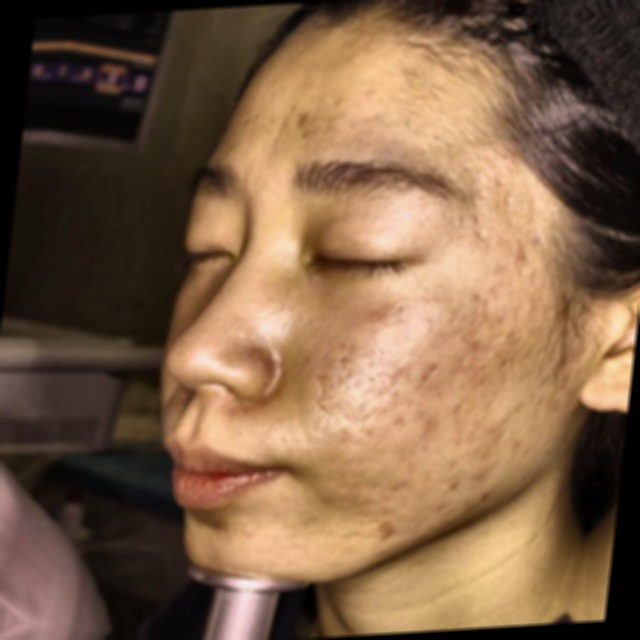comedone: (336, 506, 413, 556), (270, 98, 320, 165), (451, 474, 507, 519)
